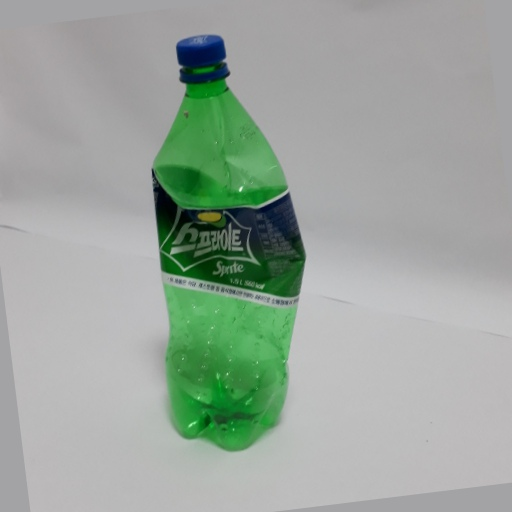Plastic_0: (140, 27, 310, 454)
